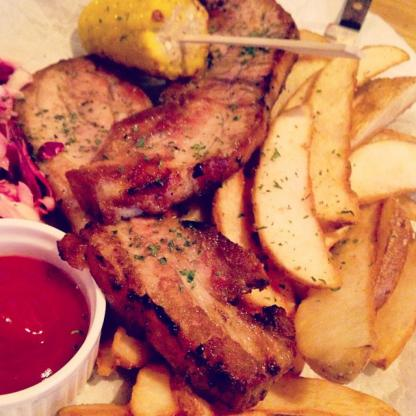Potato: (54, 28, 416, 416)
